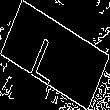L_NE: (35, 25, 75, 85)
